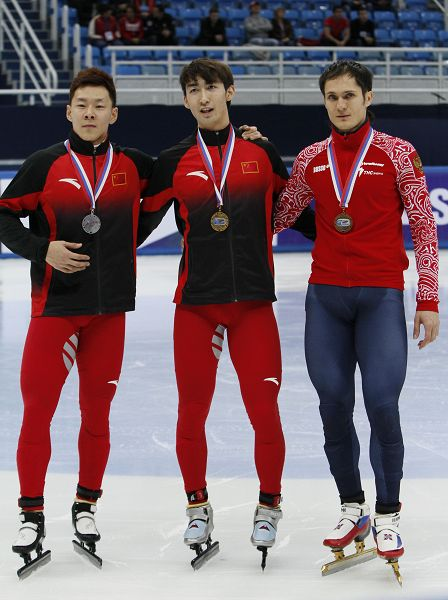wdj: (169, 57, 246, 132)
